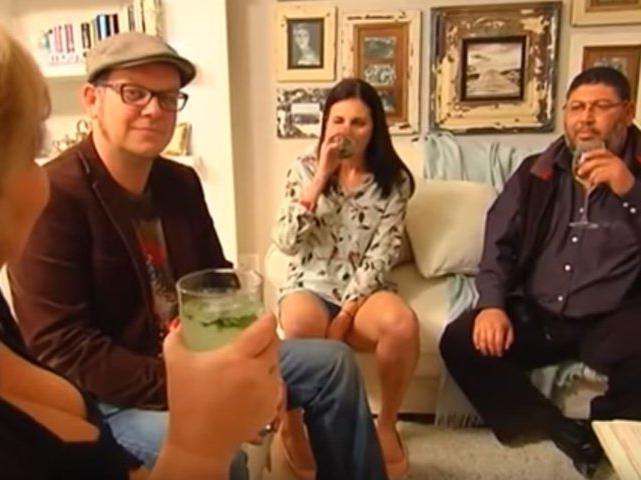Drunk: (110, 69, 177, 155), (564, 87, 627, 153)
